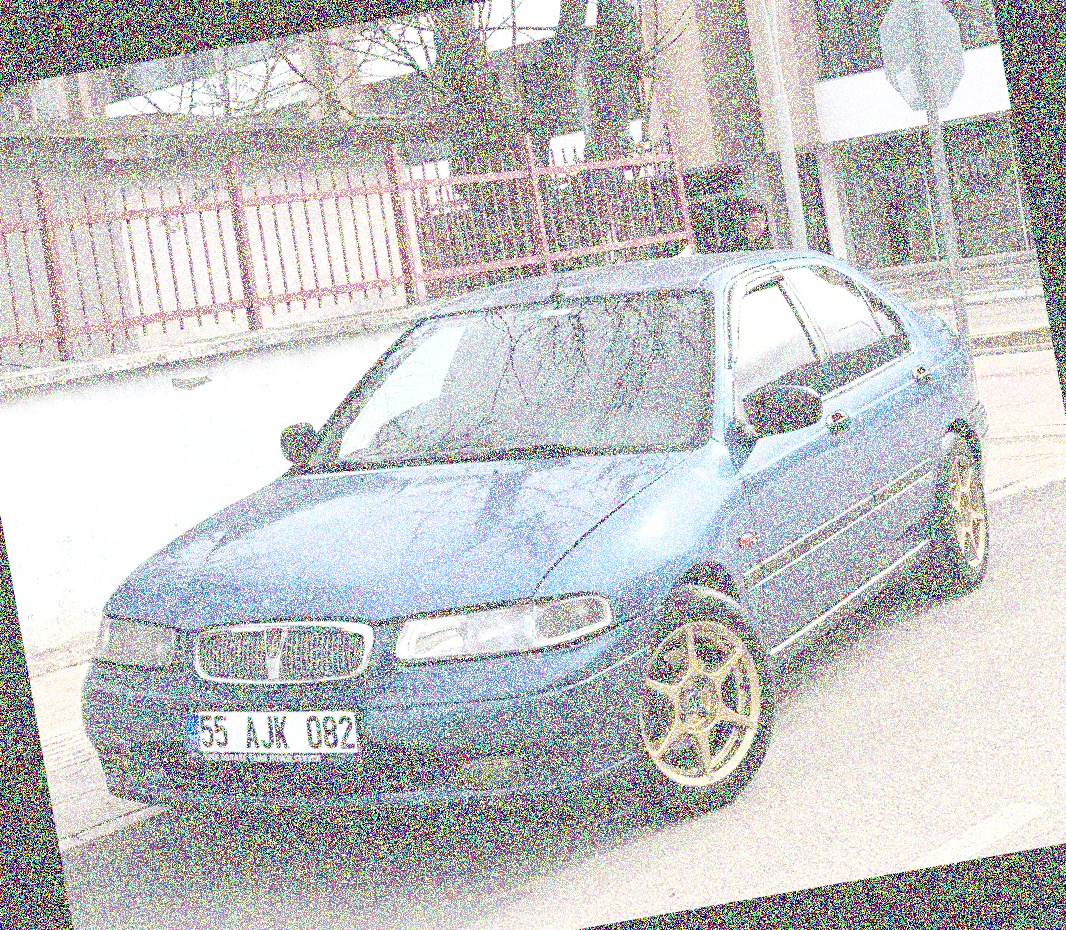plaka: (190, 702, 369, 757)
